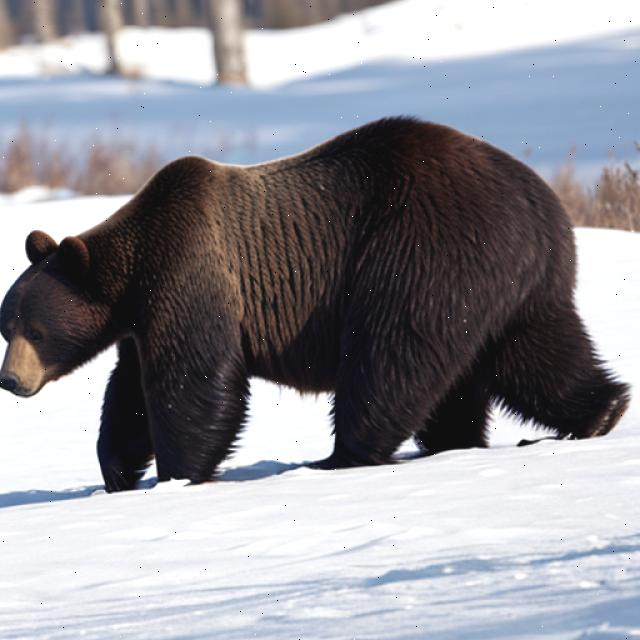bear: (0, 173, 188, 407)
